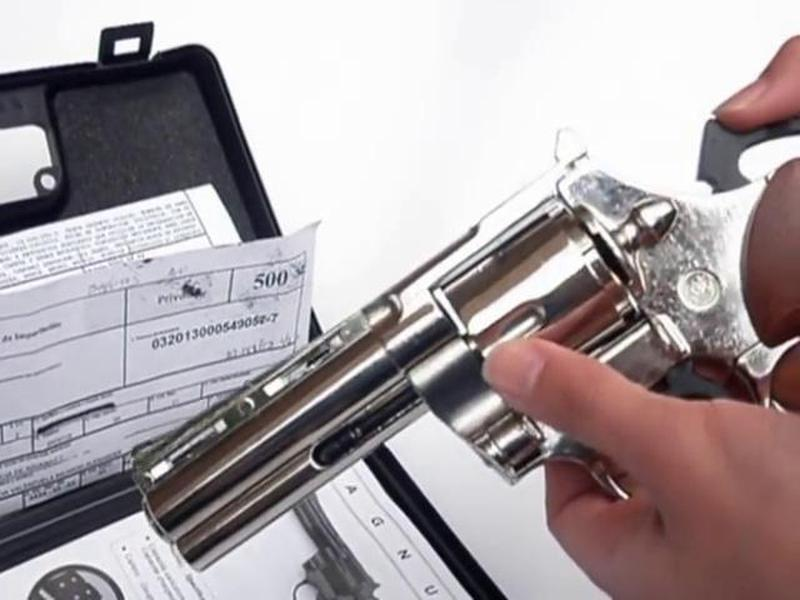Revolver: (152, 105, 800, 535)
